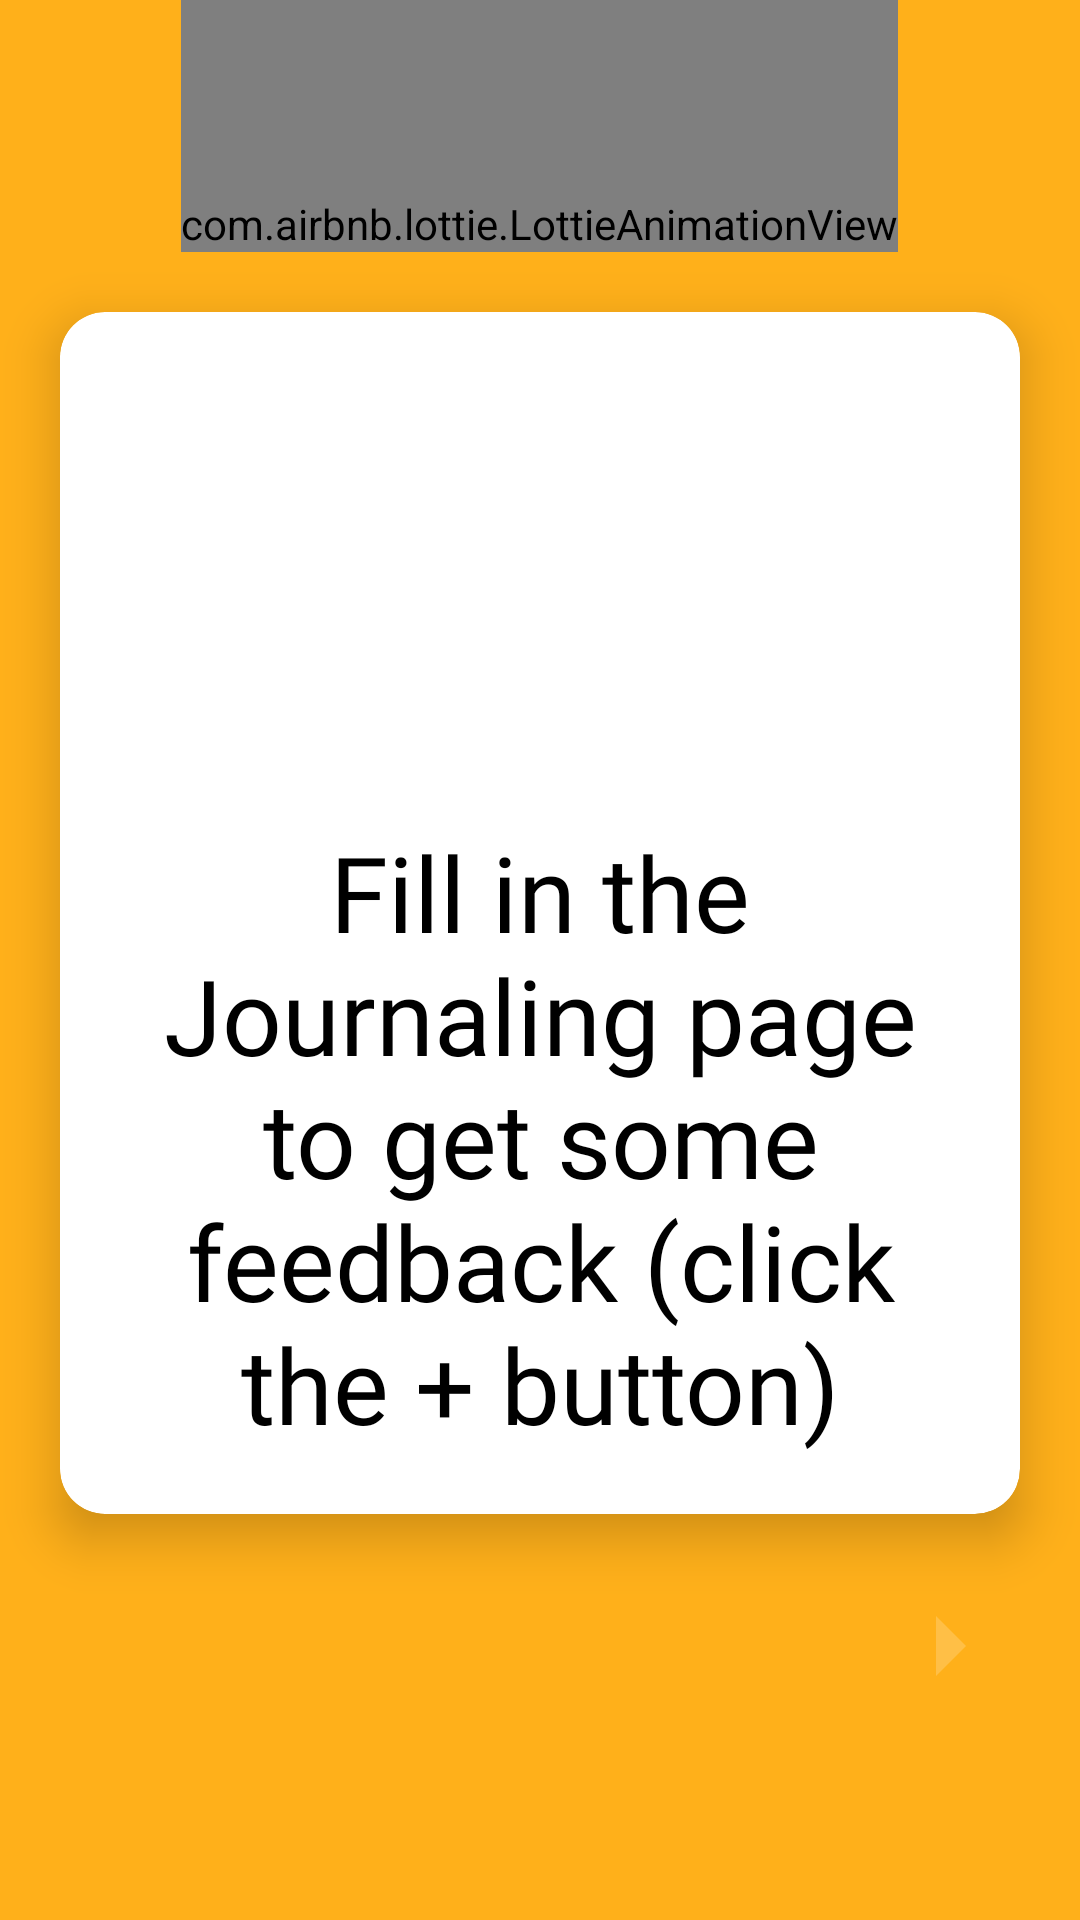

Screen size 1080×1920. Icon name, then its box in pixels as Rect(x1, y1, x2, y2):
arrow right: Rect(936, 1617, 965, 1675)
